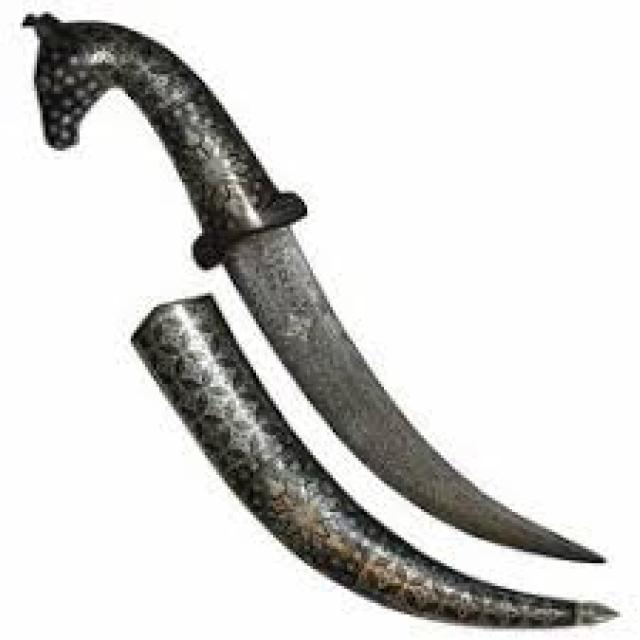Gun: (31, 6, 640, 635)
